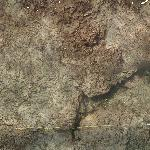dead: (1, 9, 147, 148)
